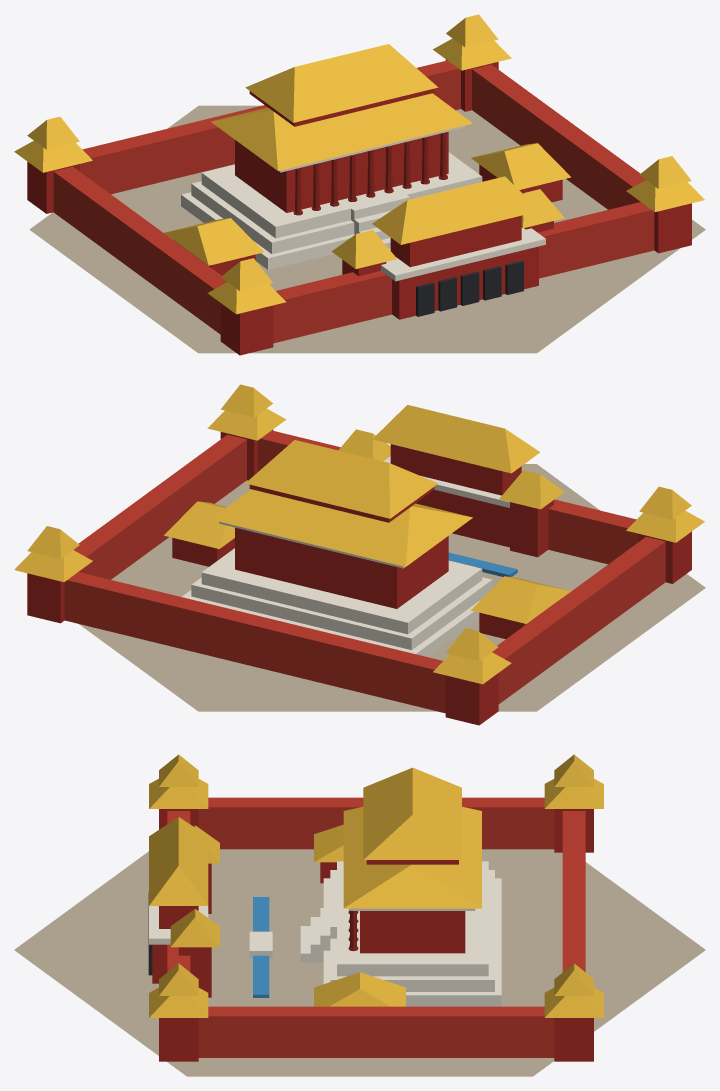
File: wonder_forbidden_city.fbx
3 views of the same model, one above another, from view 1: azimuth 30°, elevation 25°; view 2: azimuth 150°, elevation 25°; view 3: azimuth 270°, elevation 25° (orthographic). The views are drawn at different scales.
Visible parts, largest first — view 1: wonder_forbidden_city; view 2: wonder_forbidden_city; view 3: wonder_forbidden_city.
Boxes of the visible parts, bbox=[...] form: wonder_forbidden_city: bbox=[14, 14, 705, 355]; wonder_forbidden_city: bbox=[14, 384, 705, 725]; wonder_forbidden_city: bbox=[14, 754, 705, 1076].
Bounding box in the file's own units: 182 × 53.2 × 210.
